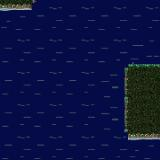Interaction: (0, 0, 38, 17)
Slow: (34, 0, 123, 160), (0, 12, 34, 160), (123, 0, 160, 61), (123, 142, 160, 160)
